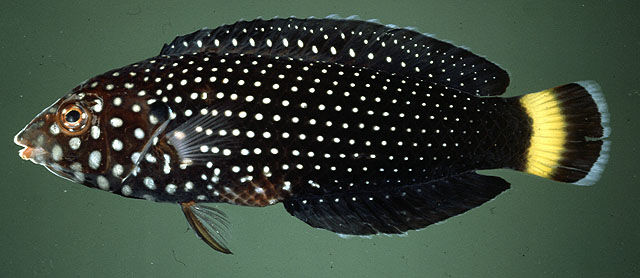fish: (12, 17, 614, 256)
